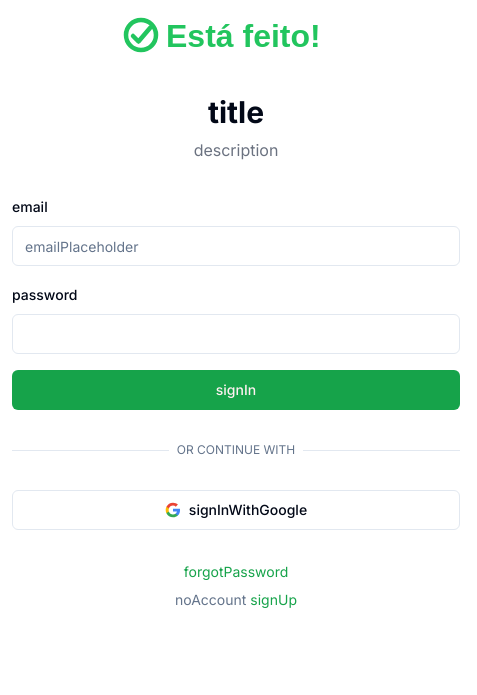
Test: LoginForm › shows an inline error and does not navigate when credentials are invalid
Type "nobody@test.local" into the field labelled "email" at (236, 246), box x1=12 y1=226 x2=460 y2=266
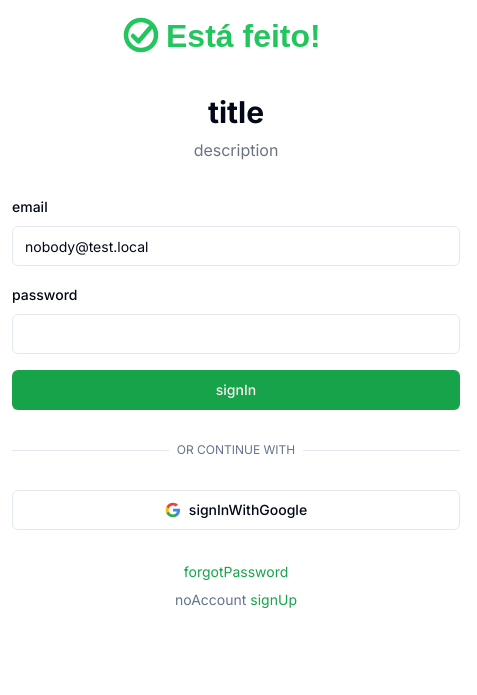
Type "wrong-password" into the password field labelled "password" at (236, 334), box x1=12 y1=314 x2=460 y2=354
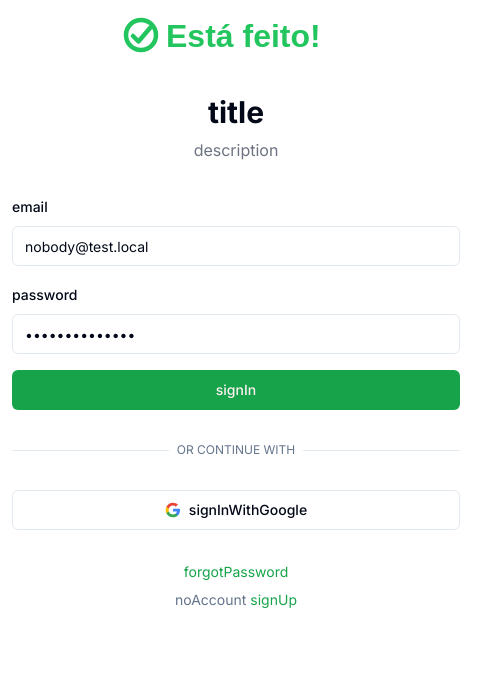
Click the button "signIn" at (236, 390), box x1=12 y1=370 x2=460 y2=410
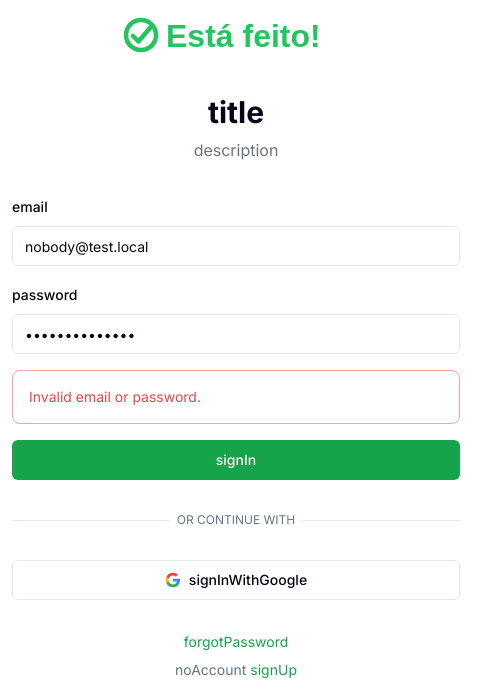
Check: the text "Invalid email or password." is shown, box x1=29 y1=388 x2=201 y2=405
